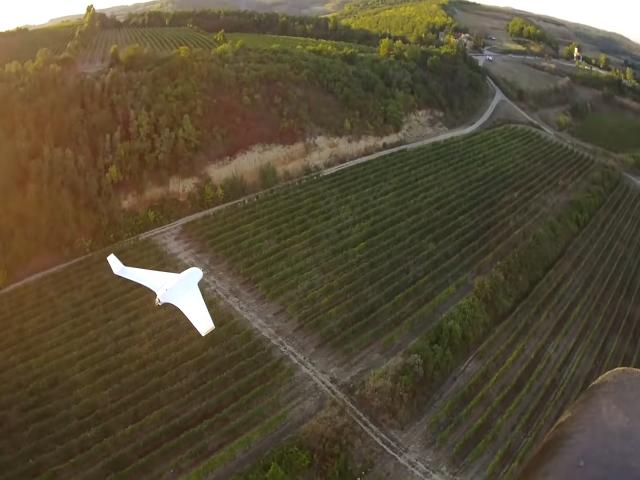plane: (107, 252, 214, 336)
